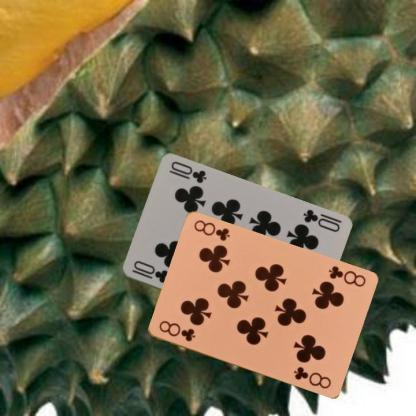10c: (129, 258, 170, 285), (300, 207, 341, 233)
8c: (325, 263, 367, 288), (156, 318, 196, 343)
